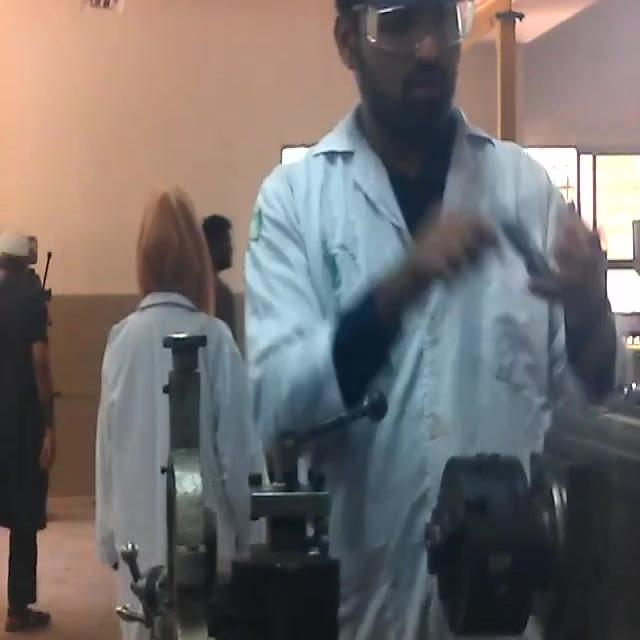googles: (356, 0, 477, 63)
labcoat: (244, 104, 631, 624)
